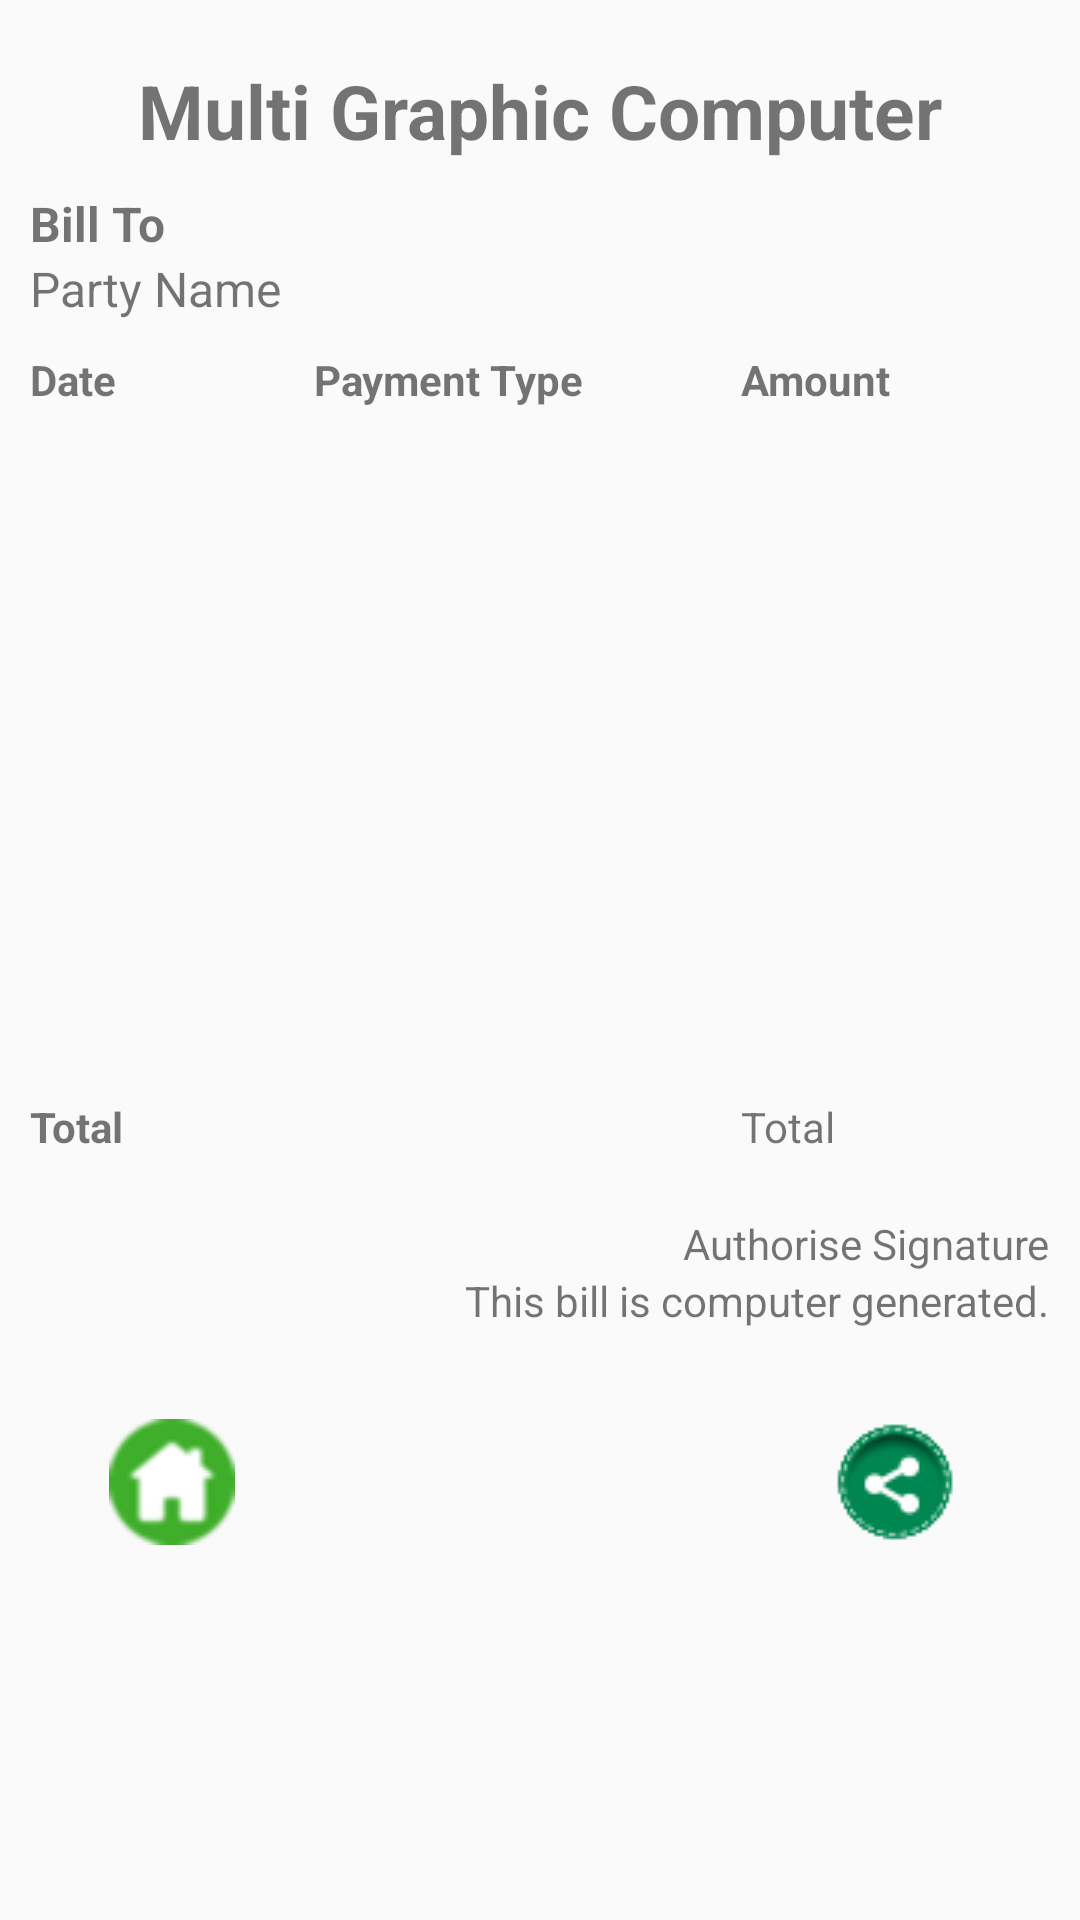

Icons on this 1080*1920 Android screen, each with its box as Rect(x1, y1, x2, y2):
homeicon: Rect(109, 1419, 235, 1545)
shareicon: Rect(837, 1424, 953, 1540)
